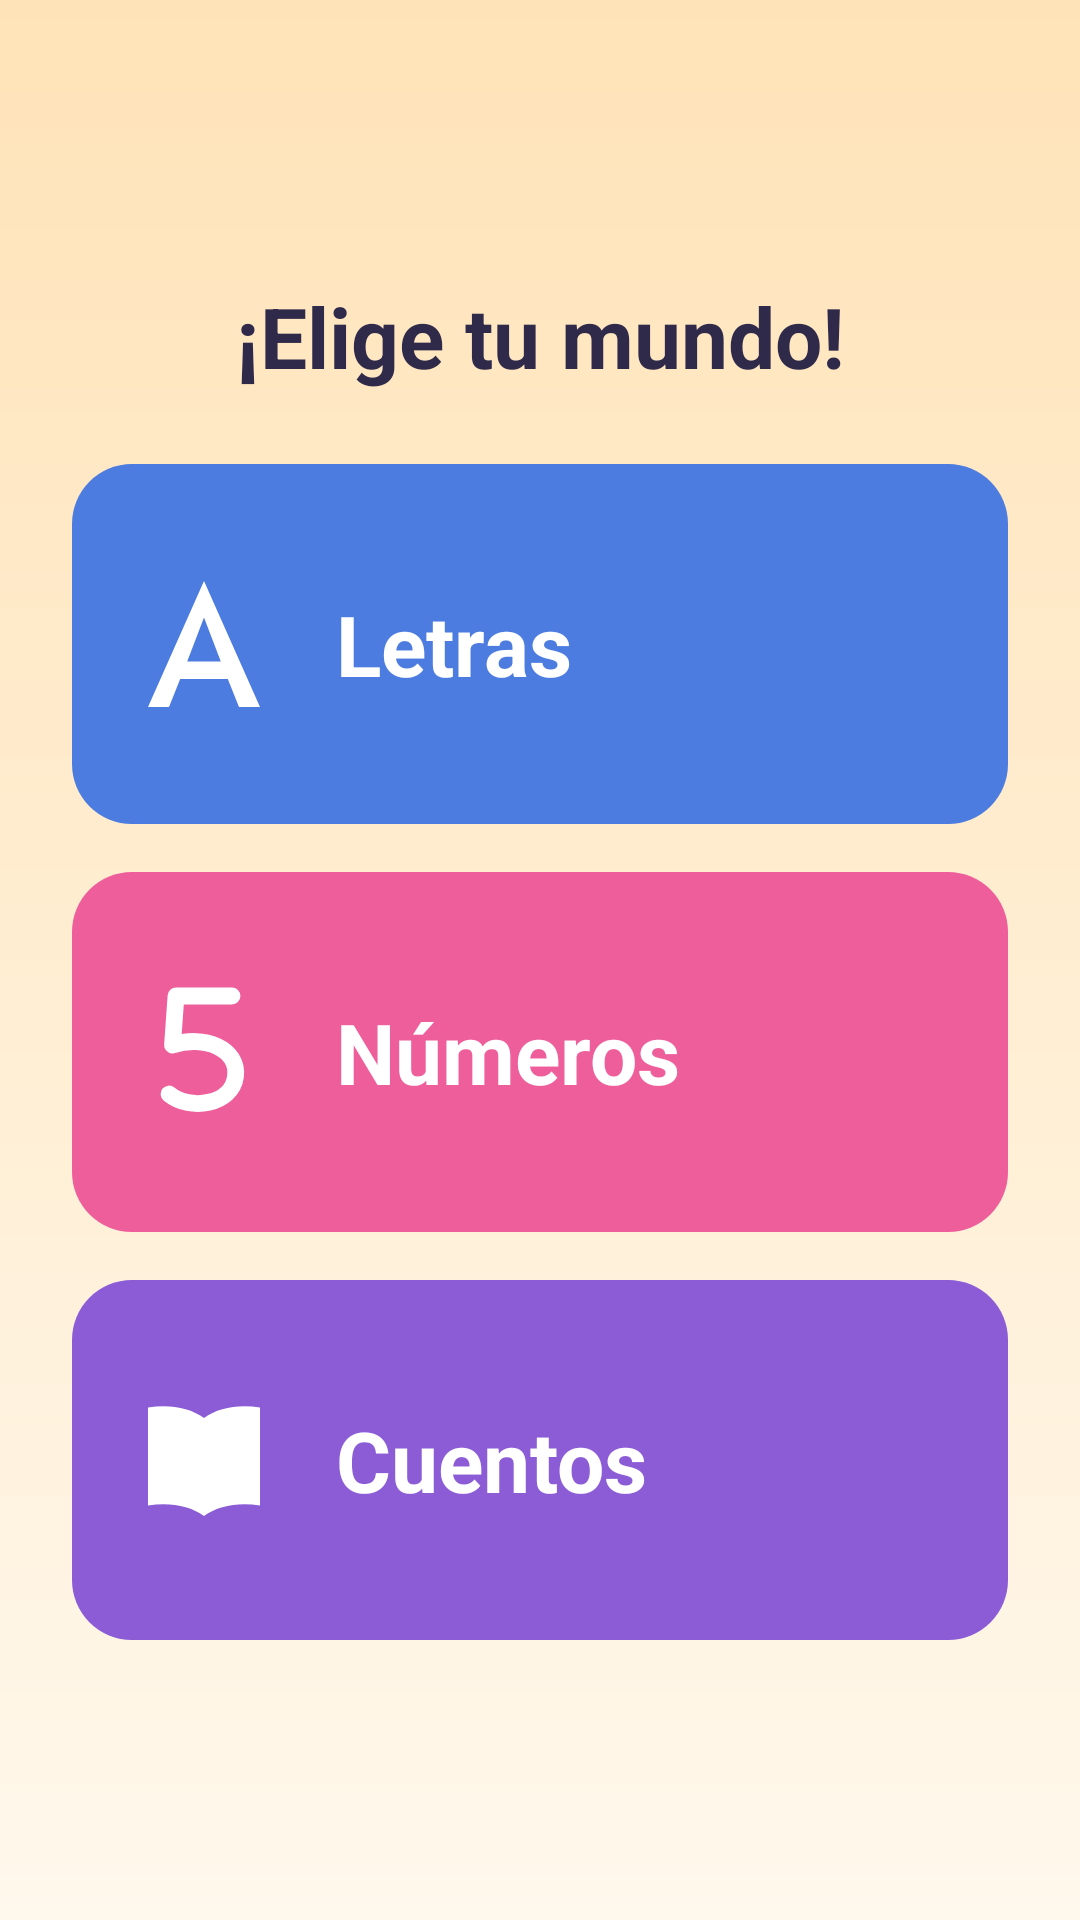

Screen size 1080x1920. Icon name, then its box in pixels as Rect(x1, y1, x2, y2):
libro: Rect(148, 1406, 260, 1516)
numero: Rect(160, 987, 244, 1112)
